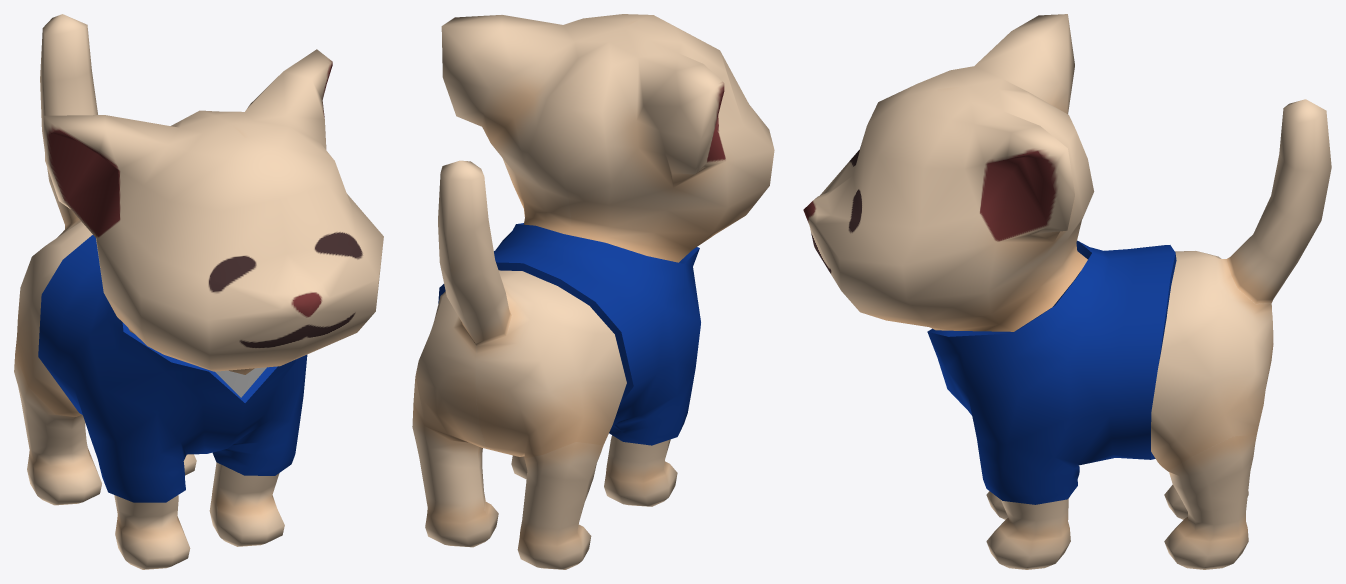
File: Nurse Cat01.fbx
3 renders of one model, left to right at view 1: azimuth 30°, elevation 25°; view 2: azimuth 150°, elevation 25°; view 3: azimuth 270°, elevation 25°, orthographic. The views are drawn at different scales.
Visible parts, largest first — view 1: Cat_Base, Nurse_Cat_Scrubs; view 2: Cat_Base, Nurse_Cat_Scrubs; view 3: Cat_Base, Nurse_Cat_Scrubs.
Part boxes in pixels (x1,y1,x2,y2): Cat_Base: [14, 14, 383, 569]; Nurse_Cat_Scrubs: [38, 235, 307, 502]; Cat_Base: [412, 14, 774, 569]; Nurse_Cat_Scrubs: [438, 223, 700, 445]; Cat_Base: [803, 14, 1331, 569]; Nurse_Cat_Scrubs: [927, 240, 1176, 504].
Size of the model in its own units: 1.75 by 2.83 by 2.68.
Materials: 3 (1 with a texture image).
